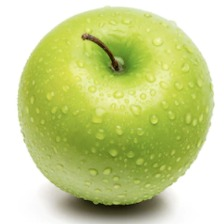apple: (15, 19, 171, 183)
